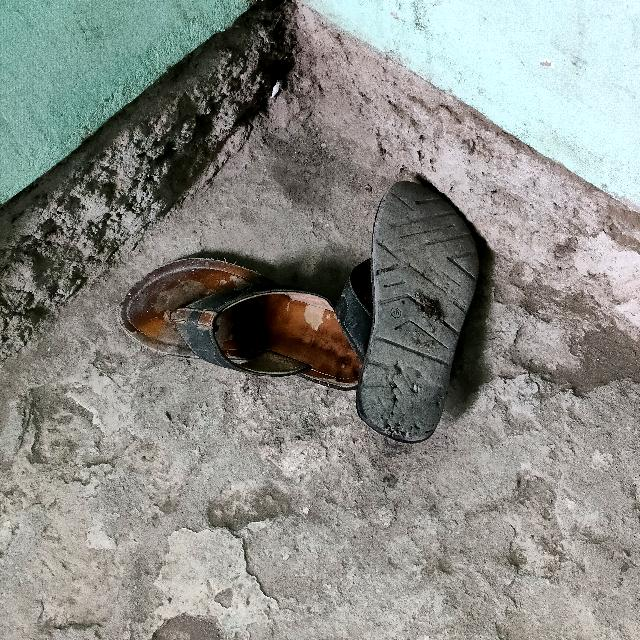sandal: (295, 154, 515, 457), (115, 232, 386, 437)
